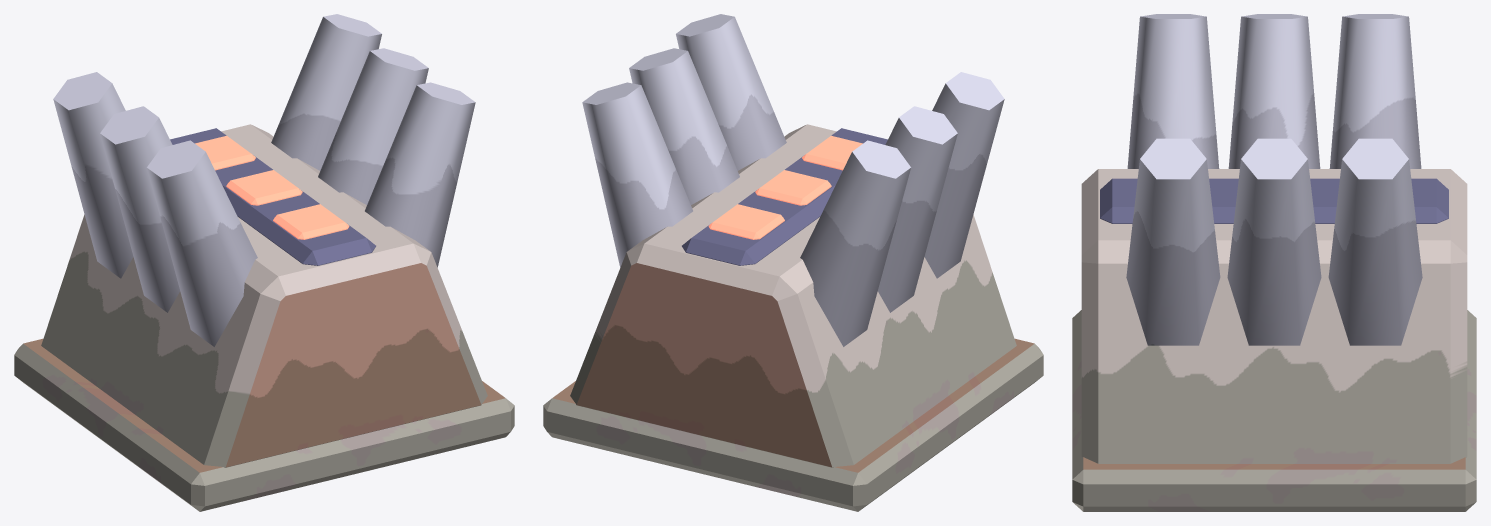
The model's file is R4X_Overdrive_LOD1.glb.
3 views of the same model, side by side, from view 1: azimuth 30°, elevation 25°; view 2: azimuth 150°, elevation 25°; view 3: azimuth 270°, elevation 25° (orthographic). The views are drawn at different scales.
Visible parts, largest first — view 1: R4X_Overdrive_LOD1; view 2: R4X_Overdrive_LOD1; view 3: R4X_Overdrive_LOD1.
Boxes of the visible parts, x1,y1,x2,y2 form: R4X_Overdrive_LOD1: (14,14,514,511); R4X_Overdrive_LOD1: (543,14,1043,511); R4X_Overdrive_LOD1: (1072,14,1476,511).
Bounding box in the file's own units: 0.52 × 0.4999 × 0.52.
5 materials, 4 textured.
